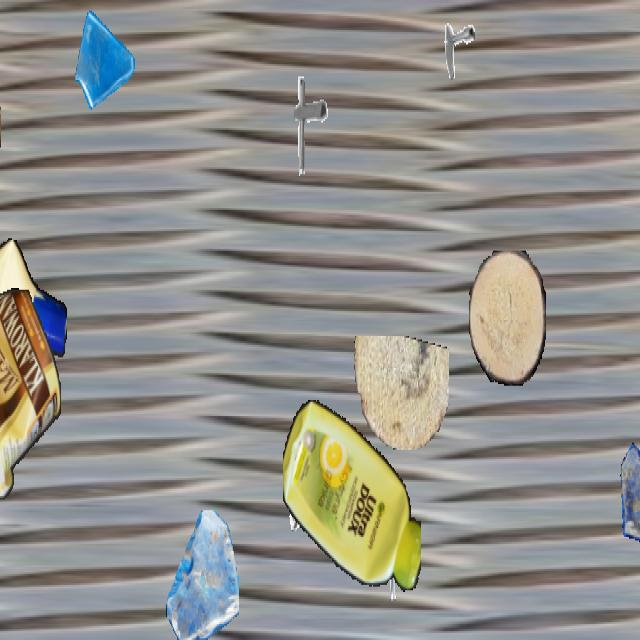glass: (166, 510, 238, 638), (73, 1, 137, 116), (620, 441, 640, 544)
metal: (276, 71, 336, 178), (283, 453, 329, 535), (375, 535, 419, 613), (433, 4, 475, 78)
plastic: (283, 393, 421, 599), (0, 288, 60, 501), (0, 237, 66, 407)
wood: (351, 336, 449, 450), (469, 250, 545, 386), (0, 87, 1, 183)
